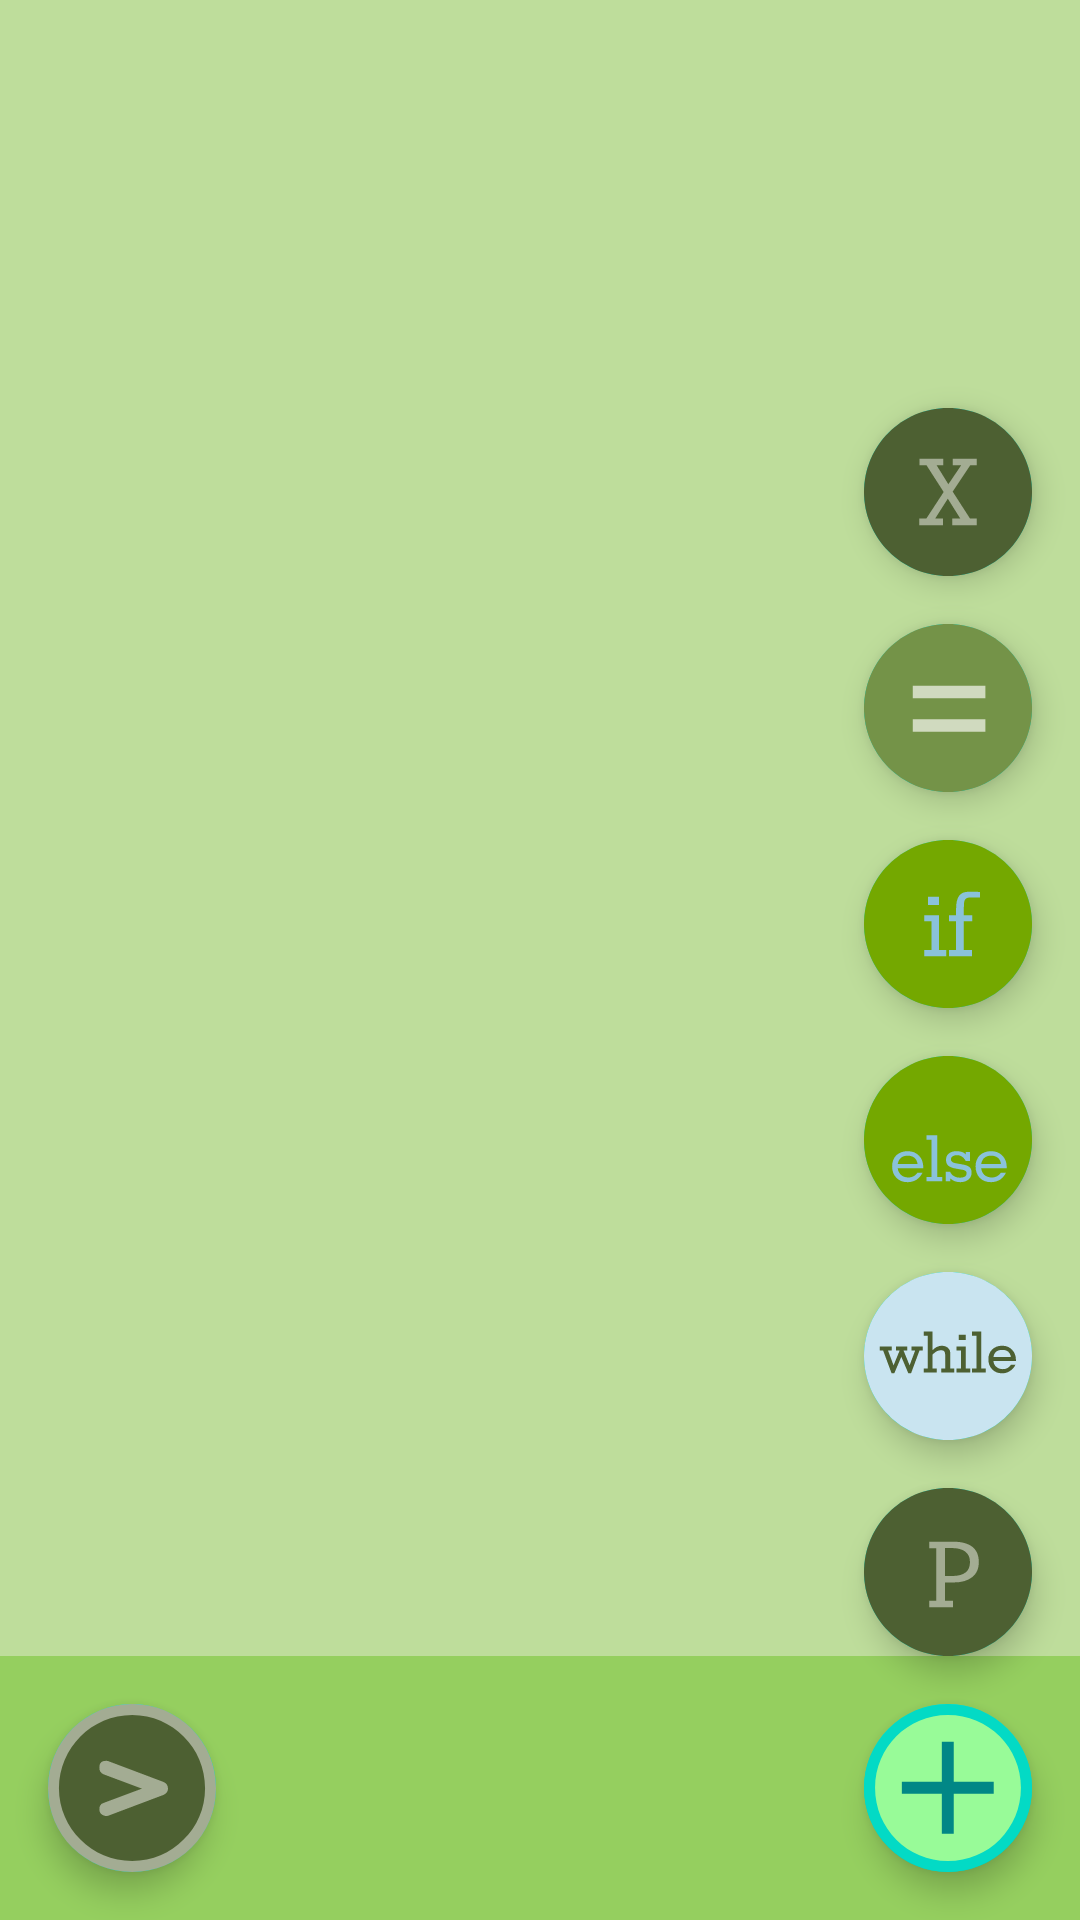

Screen size 1080×1920. Icon name, then its box in pixels as bbox=(x1, y1, x2, y2):
assign: bbox=(864, 624, 1032, 792)
Play: bbox=(48, 1704, 216, 1872)
